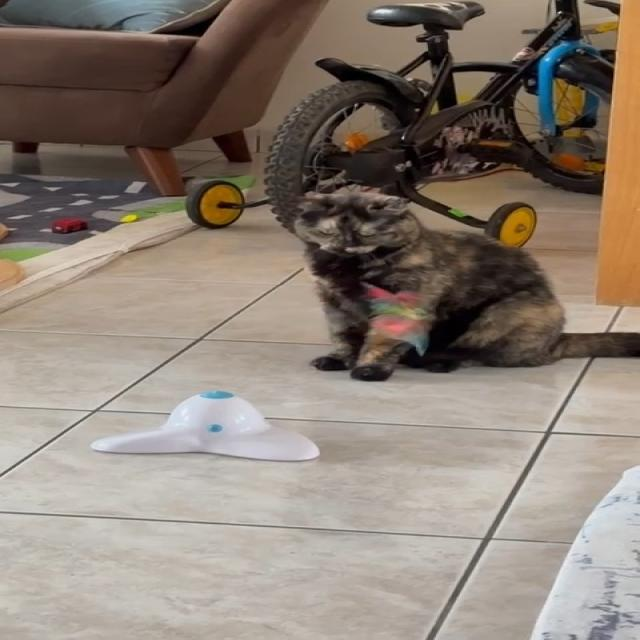authorized: (289, 190, 639, 381)
